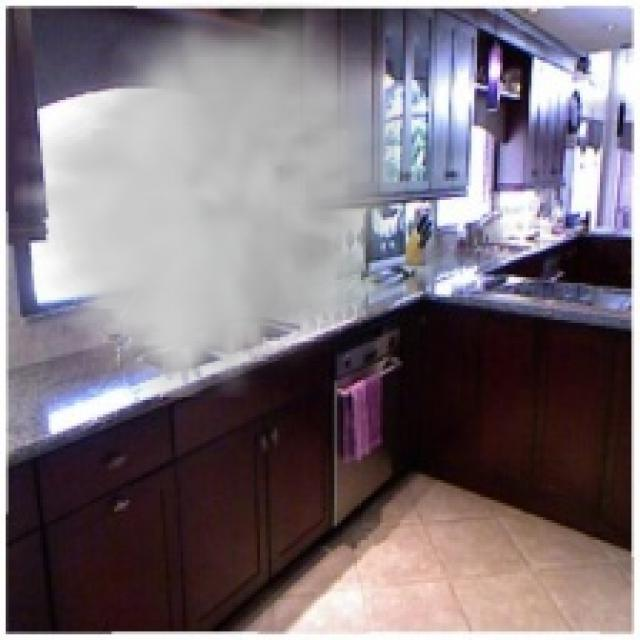smoke: (14, 3, 423, 397)
